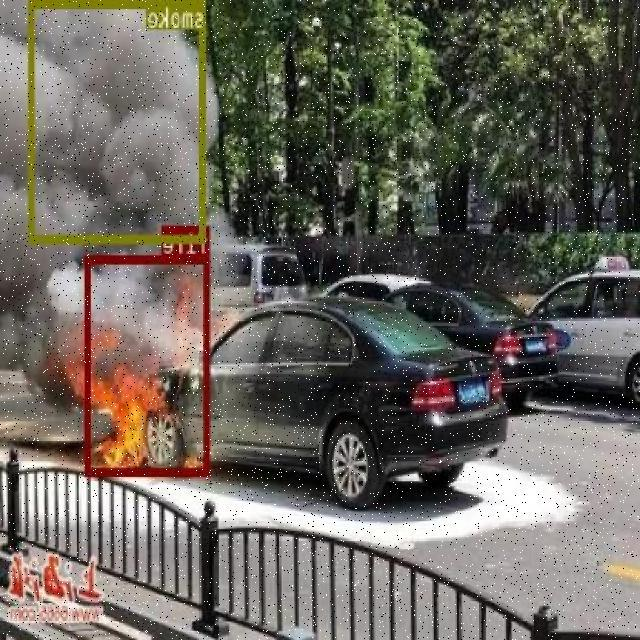smoke: (29, 1, 208, 242)
